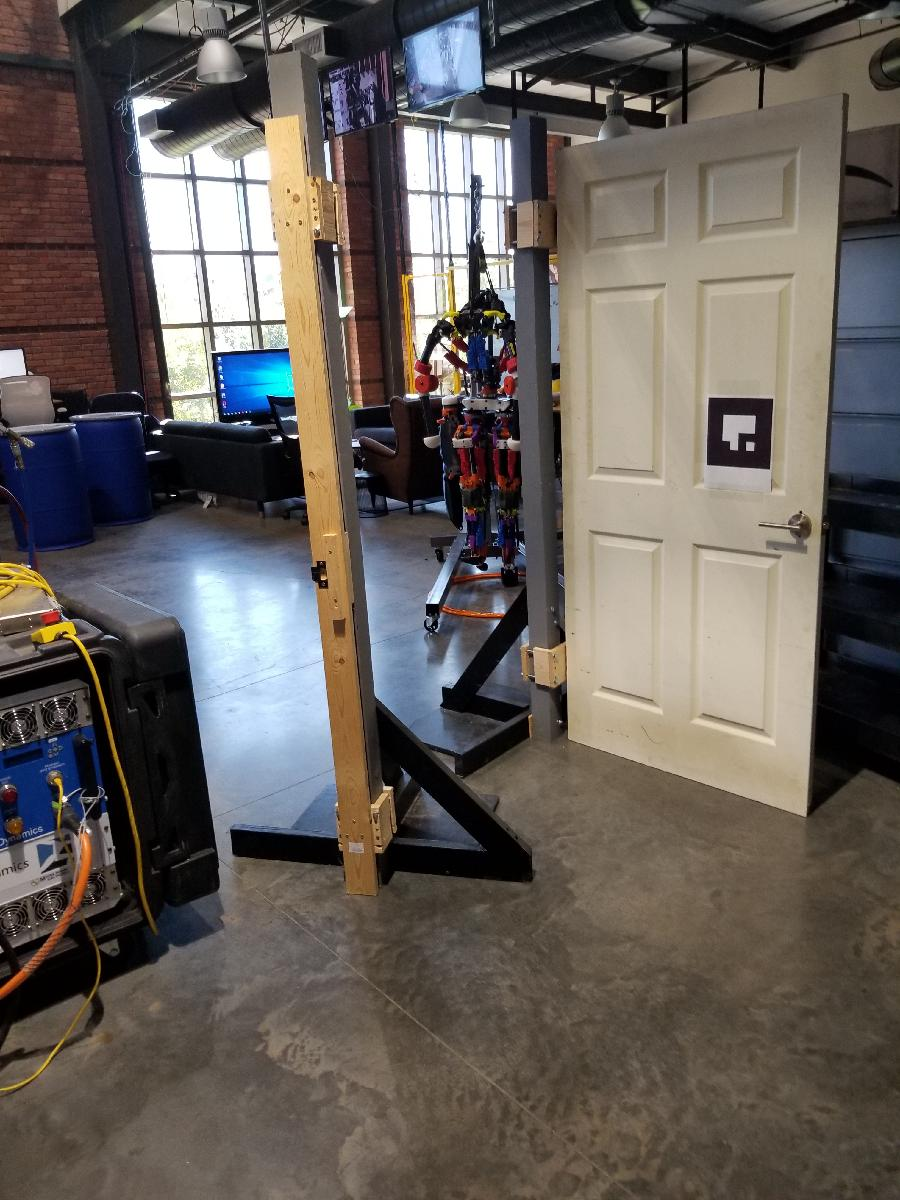door: (553, 89, 852, 824)
doorHandle: (755, 509, 817, 546)
